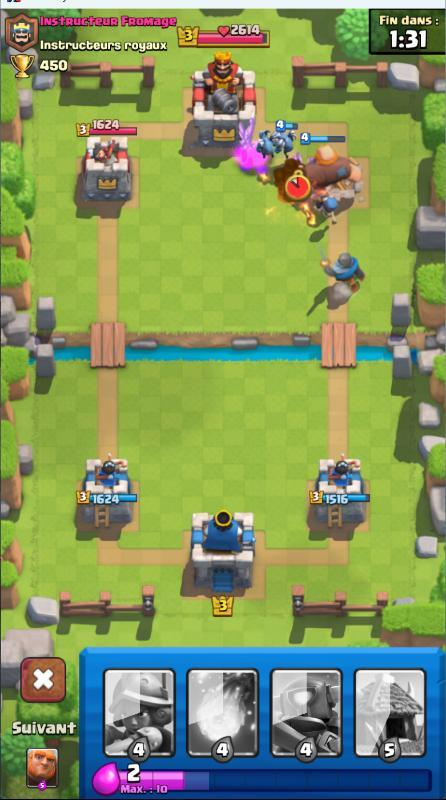player_giant: (300, 138, 365, 191)
player_knight: (312, 247, 370, 291)
player_minions: (269, 118, 300, 154), (254, 124, 278, 162)
